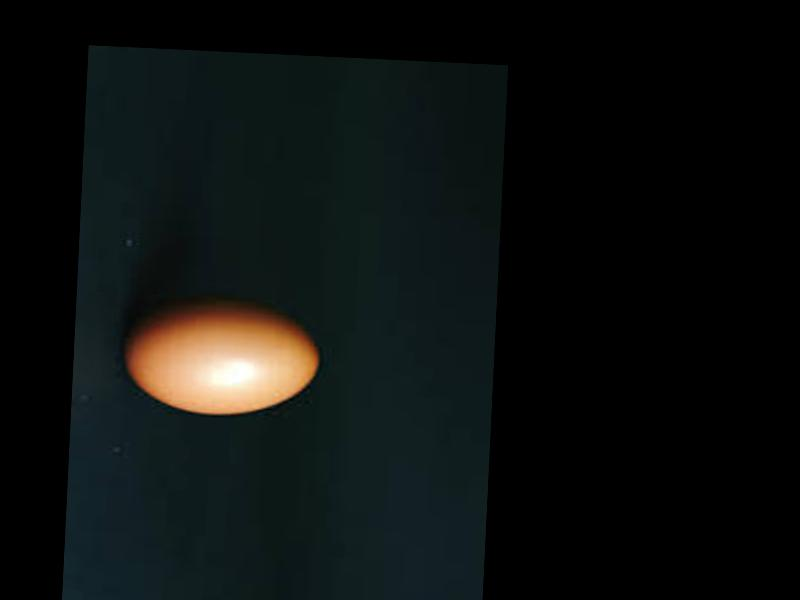Eggs: (120, 296, 321, 417)
